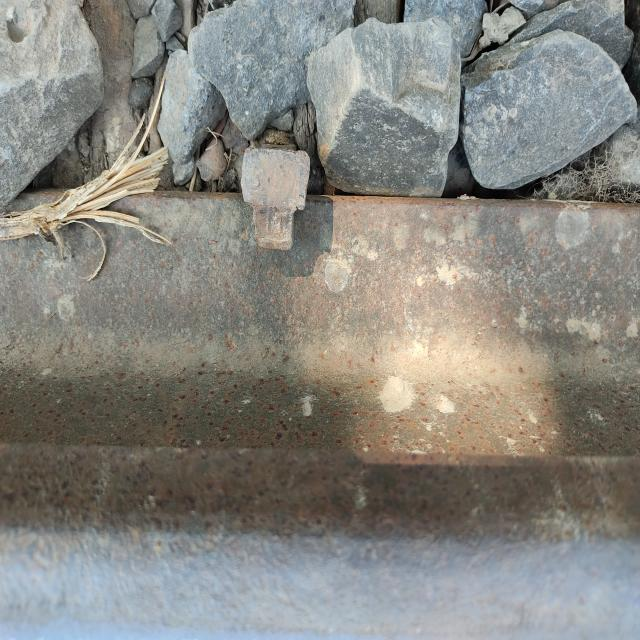non-defective: (173, 186, 511, 631)
